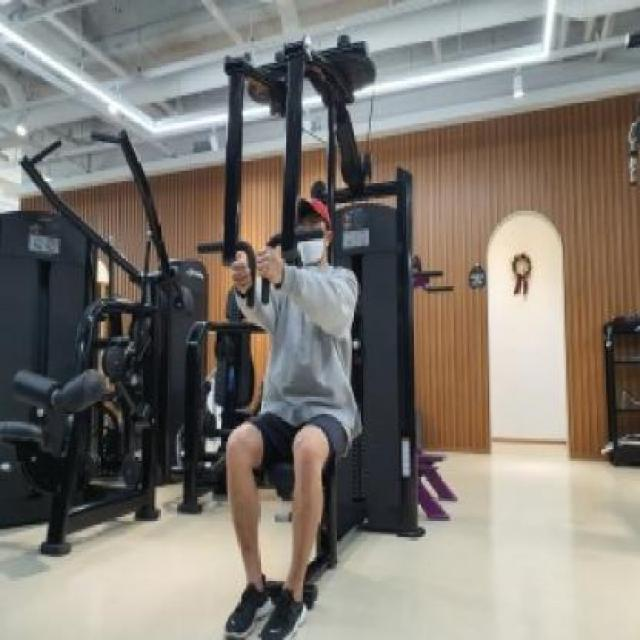chest fly machine: (181, 27, 466, 640)
